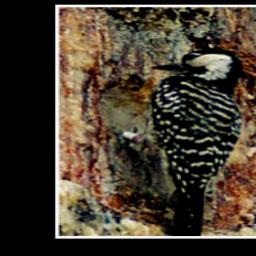Woodpecker: (104, 42, 251, 238)
